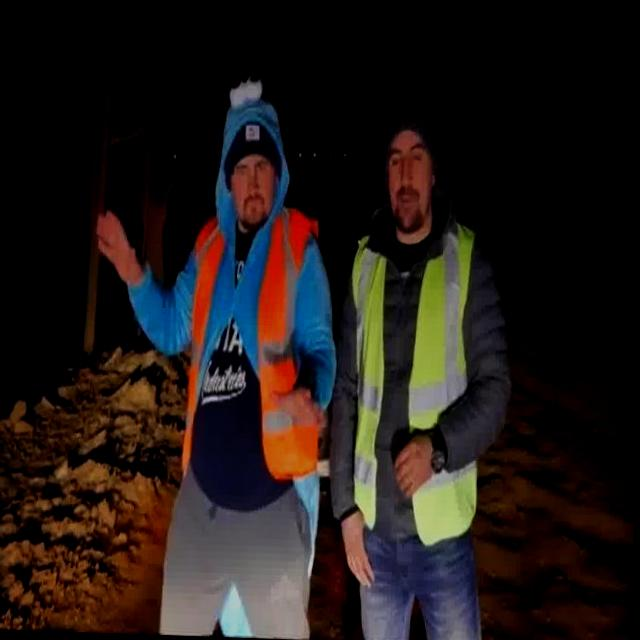vest: (341, 216, 487, 550), (179, 200, 327, 487)
